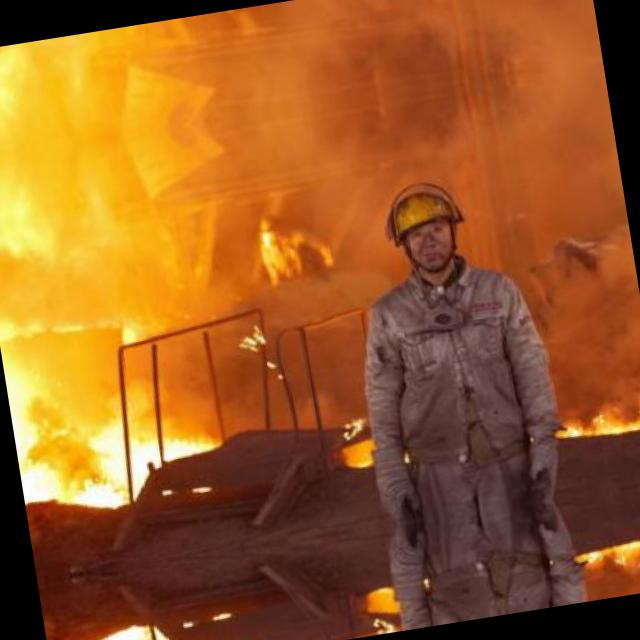helmet: (372, 167, 472, 285), (341, 0, 430, 15)
